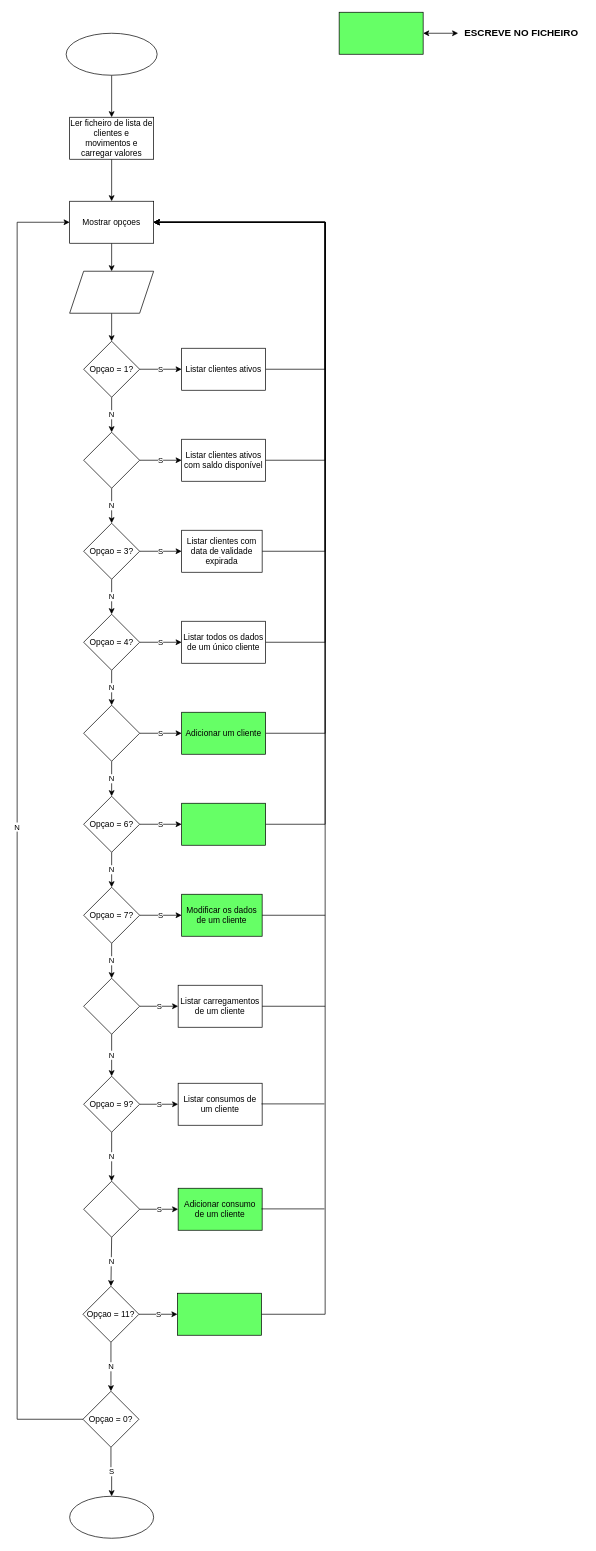
The diagram is 596 pixels wide and 1551 high, and some of its shapes have lost their labels. The centre of each missing label's shape, as x and y in pixels:
"Adicionar carregamento de um cliente" goes at [219,1314].
"Eliminar um cliente" goes at [223,824].
"Inicio" goes at [111,54].
"Ler opçao" goes at [111,292].
"Opçao = 10?" goes at [111,1209].
"Opçao = 2?" goes at [111,460].
"Opçao = 5?" goes at [111,733].
"Opçao = 8?" goes at [111,1006].
"Sair do programa" goes at [111,1517].
